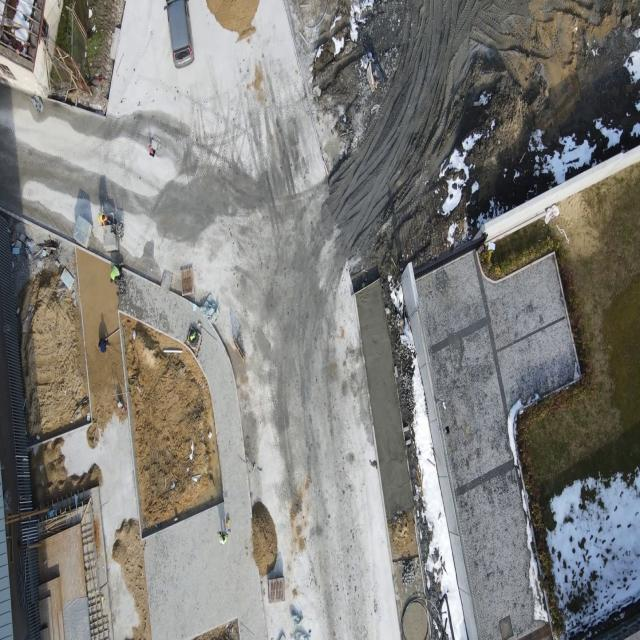p3rson: (110, 262, 124, 283), (98, 212, 110, 227), (98, 337, 108, 352), (218, 530, 228, 545)
